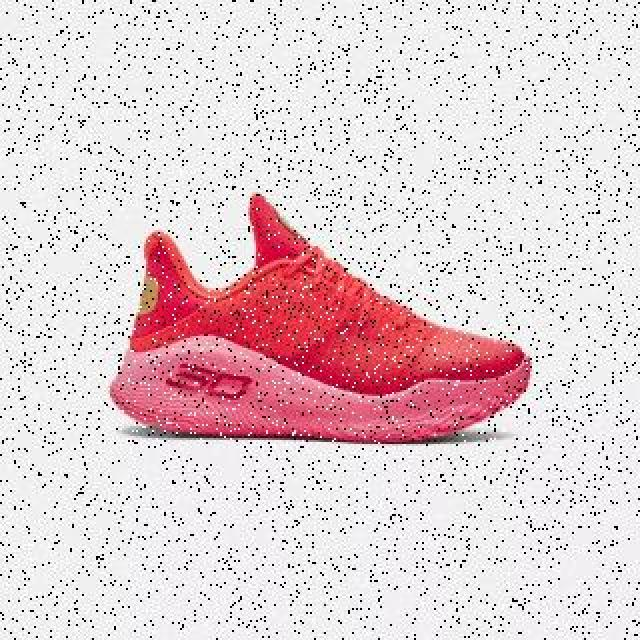shoe: (111, 195, 533, 445)
